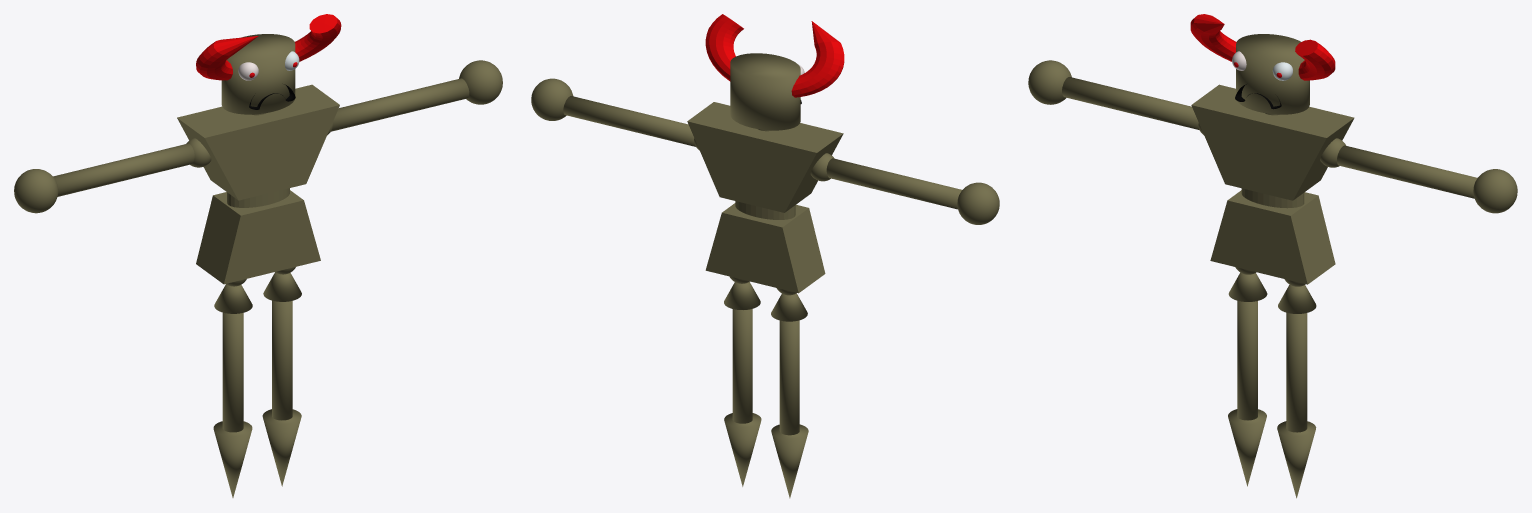
Rendered from buffman.fbx.
The picture shows the model from 3 angles, left to right: view 1: azimuth 30°, elevation 25°; view 2: azimuth 150°, elevation 25°; view 3: azimuth 330°, elevation 25°; orthographic projection. The views are drawn at different scales.
Parts seen in each view (by area): view 1: ทรงกลม; view 2: ทรงกลม; view 3: ทรงกลม.
Part boxes in pixels (x1,y1,x2,y2): ทรงกลม: (14,14,502,497); ทรงกลม: (531,14,999,498); ทรงกลม: (1028,14,1517,498).
Bounding box in the file's own units: 1427 × 1356 × 199.
